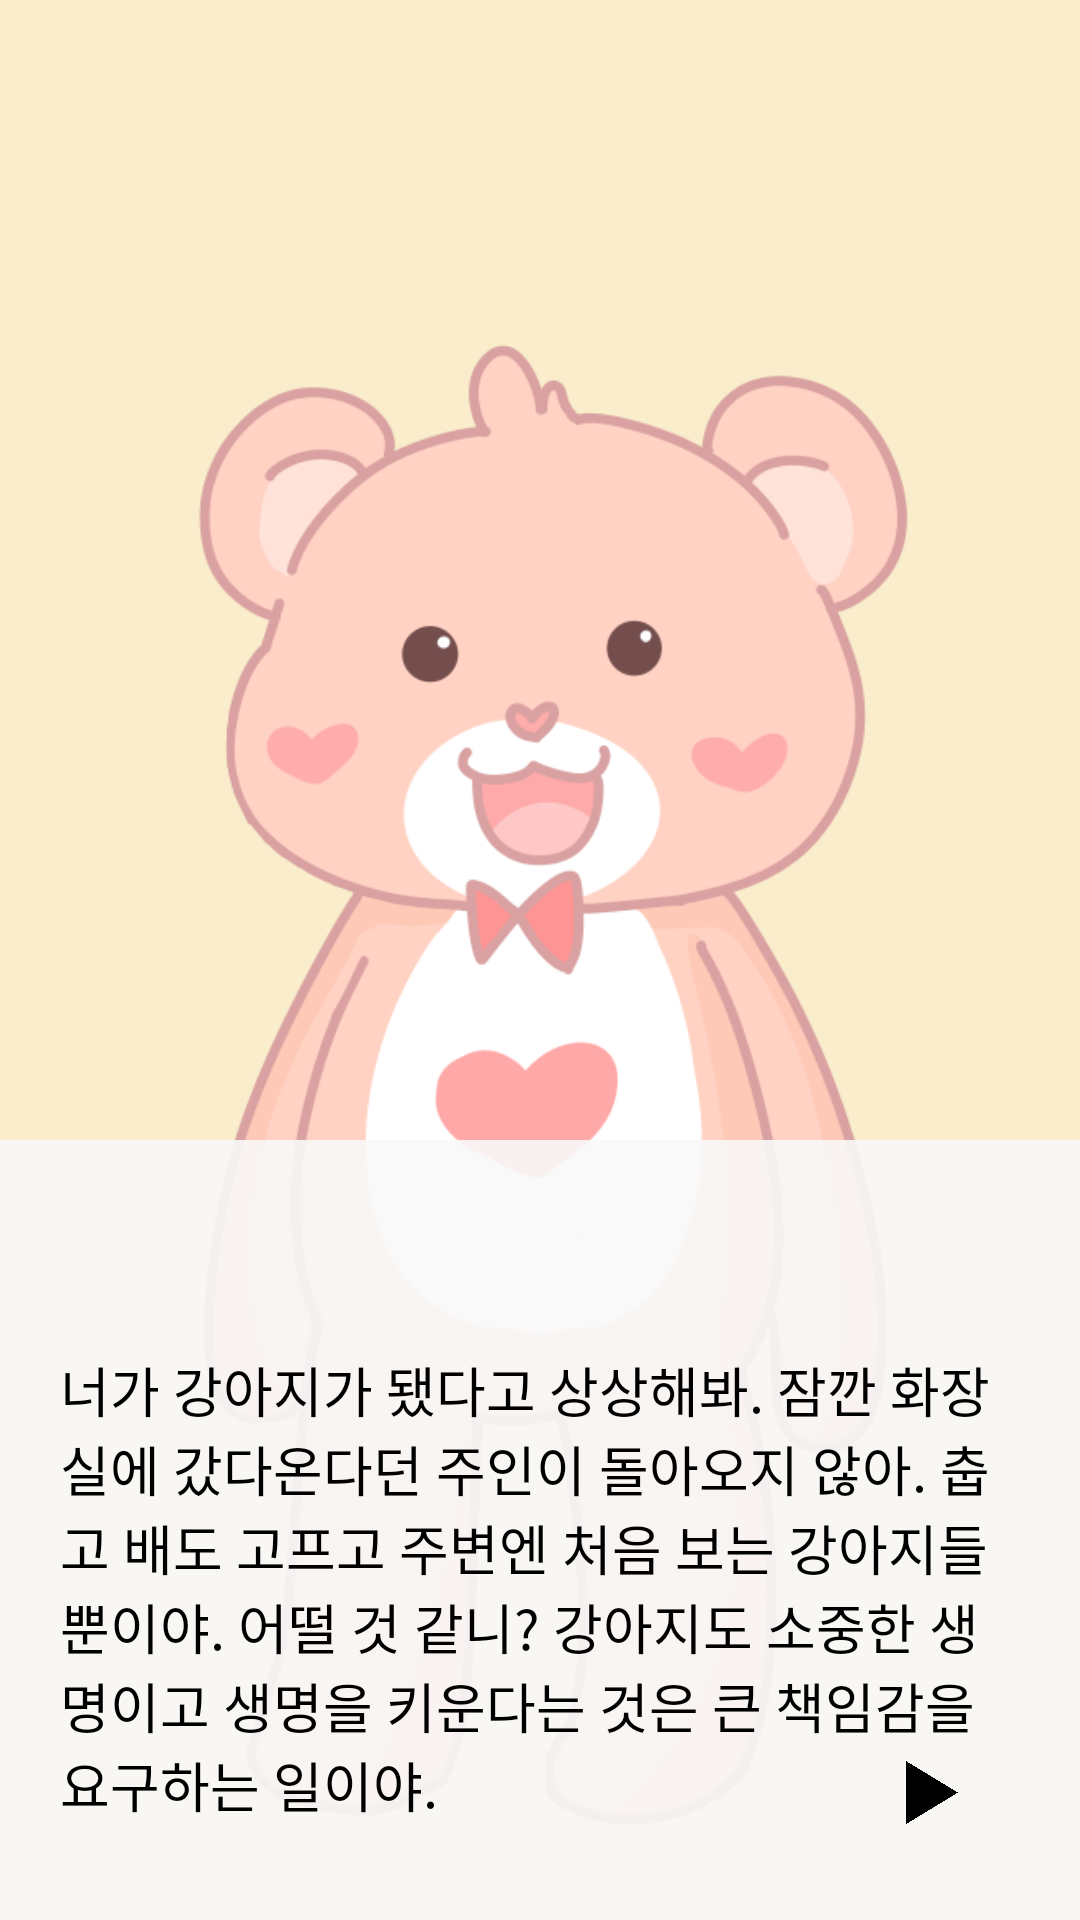

Named icons in this screenshot (1080w x 1920h) and their centers, [x,y]:
noun triangle: [932,1792]
